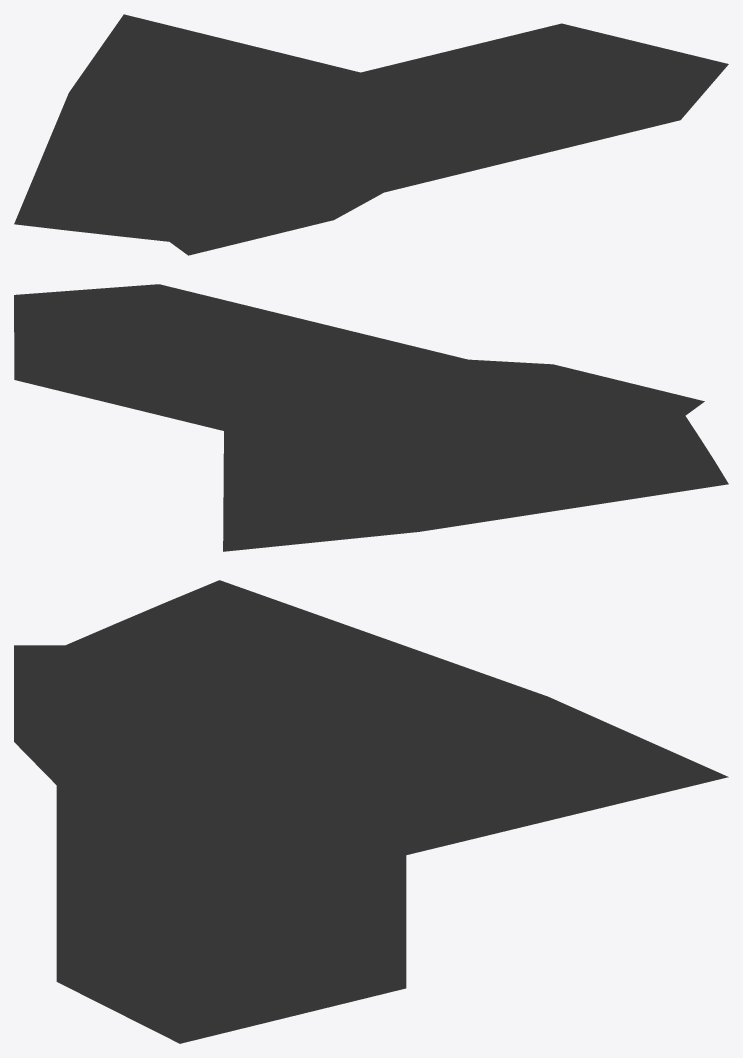
Rendered from Teto_ExatasEdaTerra_PrimeiroAndar.gltf.
The picture shows the model from 3 angles, top to bottom: view 1: azimuth 30°, elevation 25°; view 2: azimuth 150°, elevation 25°; view 3: azimuth 270°, elevation 25°; orthographic projection. The views are drawn at different scales.
Parts seen in each view (by area): view 1: Plane.004; view 2: Plane.004; view 3: Plane.004.
Part boxes in pixels (x1,y1,x2,y2): Plane.004: (14, 14, 728, 255); Plane.004: (14, 284, 728, 551); Plane.004: (14, 580, 728, 1043).
Size of the model in its own units: 69.45 by 0 by 45.24.
1 material, 1 textured.
